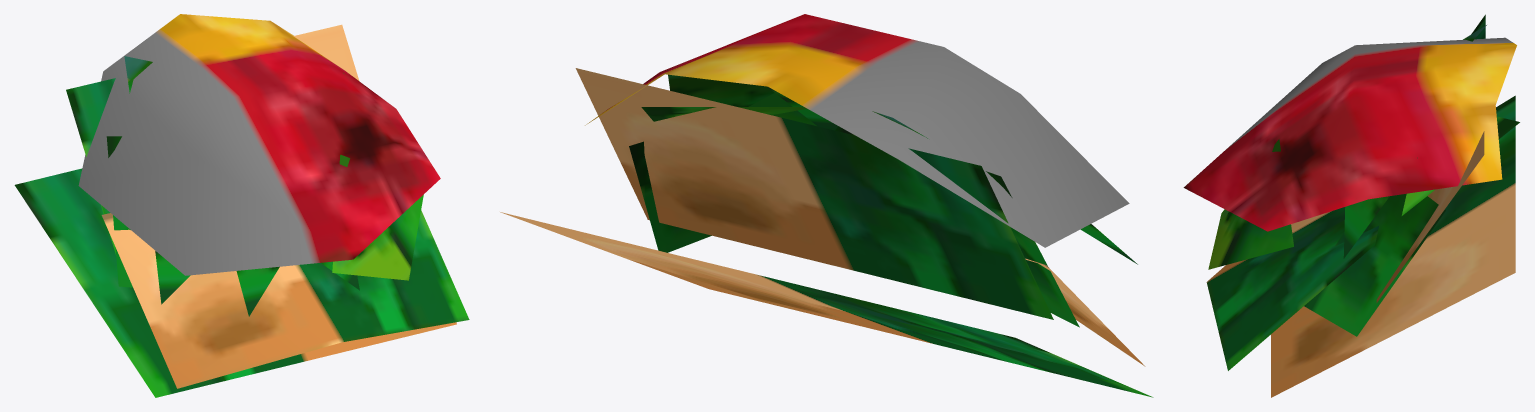
Rendered from fg_bushD_2_s.dae.
The picture shows the model from 3 angles, left to right: view 1: azimuth 30°, elevation 25°; view 2: azimuth 150°, elevation 25°; view 3: azimuth 270°, elevation 25°; orthographic projection. The views are drawn at different scales.
Parts seen in each view (by area): view 1: fg_bushD_2_s; view 2: fg_bushD_2_s; view 3: fg_bushD_2_s.
Boxes of the visible parts, x1=… form: fg_bushD_2_s: x1=14, y1=14, x2=469, y2=397; fg_bushD_2_s: x1=500, y1=14, x2=1153, y2=397; fg_bushD_2_s: x1=1183, y1=14, x2=1519, y2=397.
Size of the model in its own units: 47.83 by 34.27 by 38.41.
1 material, 1 textured.
